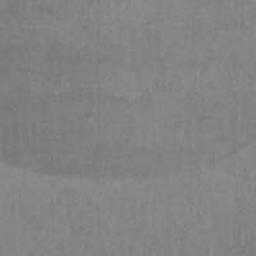Oil spot: (0, 0, 256, 180)
